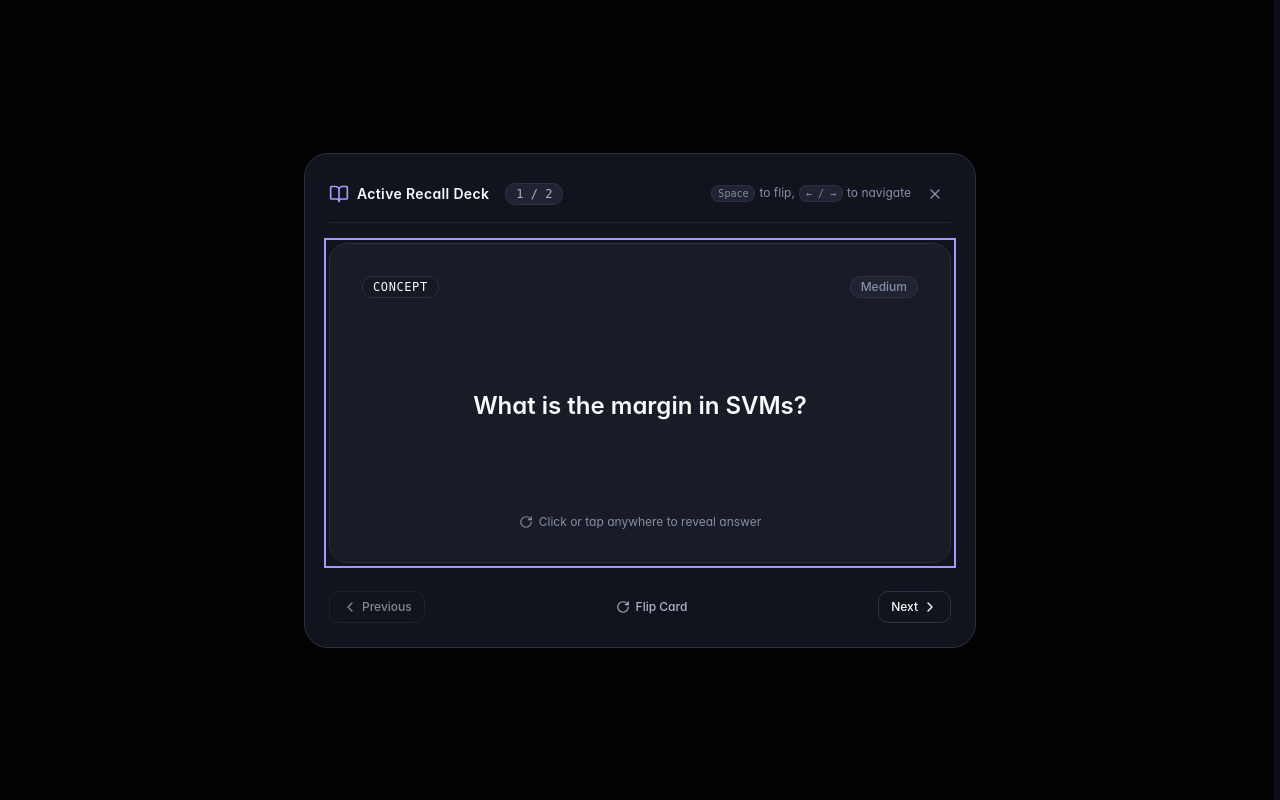
it: FlashcardViewerModal › navigates to next card
The width and height of the screenshot is (1280, 800).
Click the button "Next" at point(915, 606), box [878, 590, 951, 622]
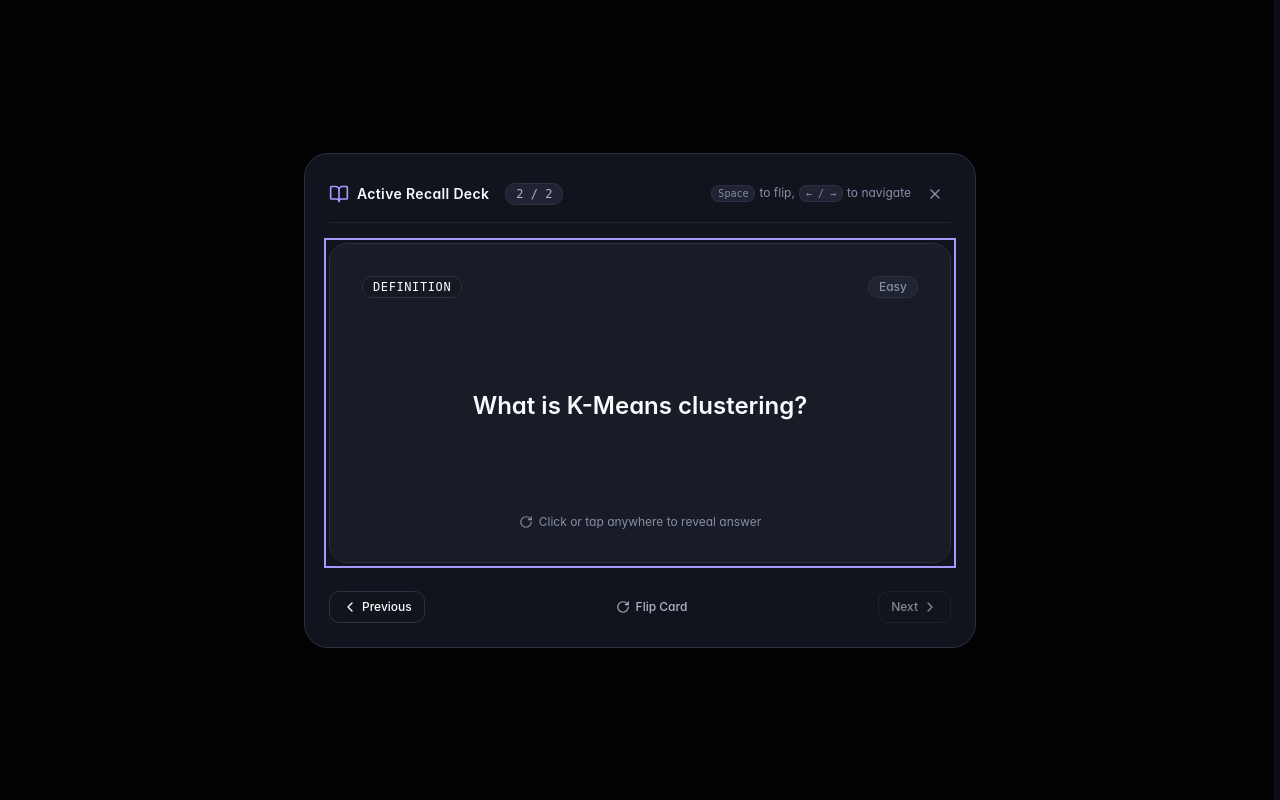
Result: the text "What is K-Means clustering?" is shown at [473, 390, 807, 422]
Result: the text "2 / 2" is shown at [505, 182, 564, 204]
